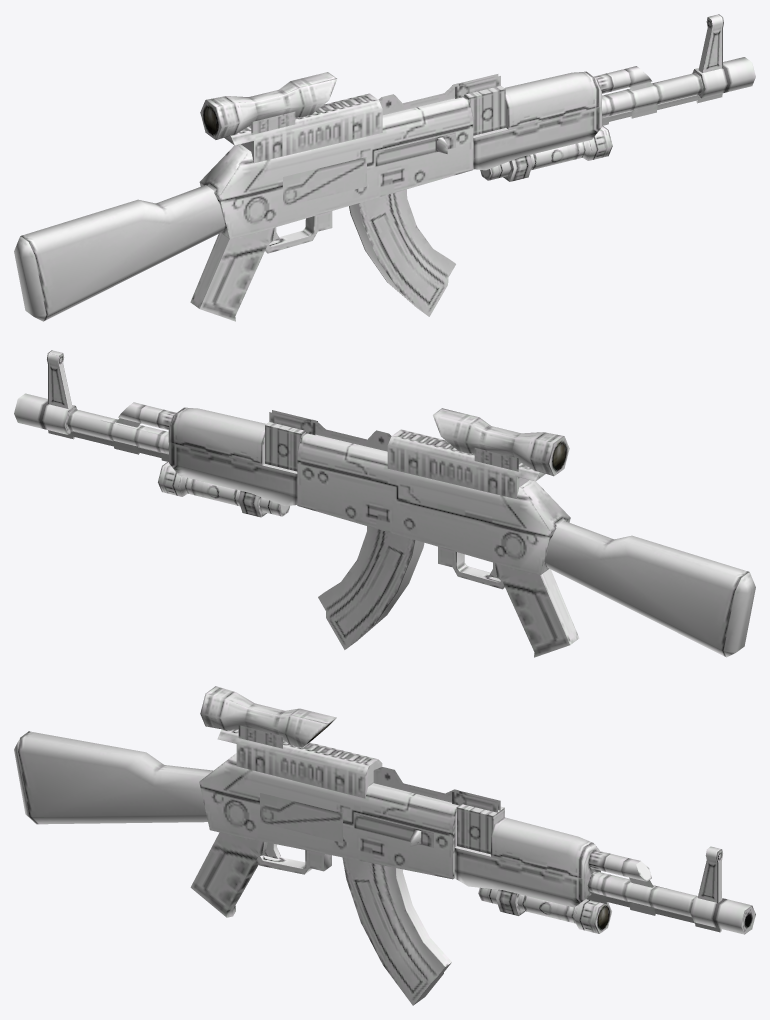
File: Weapon_AssaultRifle_Weapon_AssaultRifle_SkeletalMesh3_Weapon_AssaultRifle_Mk2_LOD0.psk.glb
The picture shows the model from 3 angles, top to bottom: view 1: azimuth 30°, elevation 25°; view 2: azimuth 150°, elevation 25°; view 3: azimuth 330°, elevation 25°; orthographic projection.
Size of the model in its own units: 78.75 by 26.67 by 5.4.
1 material, 1 textured.
